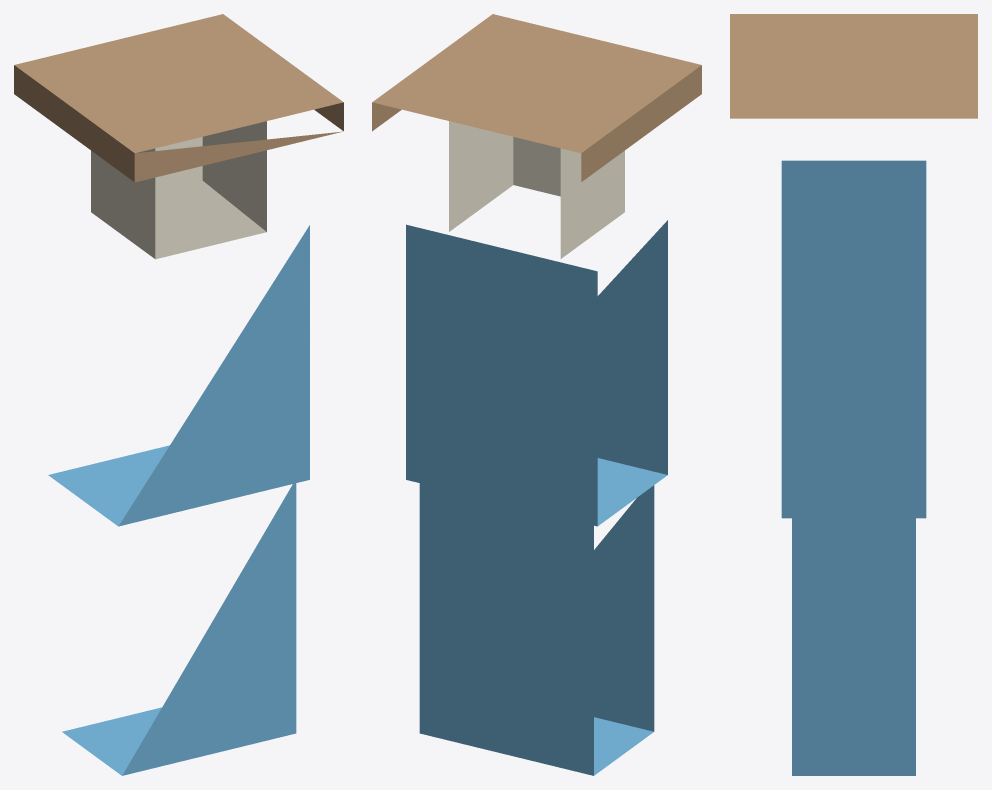
Rendered from ASTX_NPC_FISHERMAN.glb.
3 renders of one model, left to right at view 1: azimuth 30°, elevation 25°; view 2: azimuth 150°, elevation 25°; view 3: azimuth 270°, elevation 25°, orthographic. The views are drawn at different scales.
Visible parts, largest first — view 1: ASTX_NPC_FISHERMAN_hat, ASTX_NPC_FISHERMAN_torso, ASTX_NPC_FISHERMAN_legs, ASTX_NPC_FISHERMAN_head; view 2: ASTX_NPC_FISHERMAN_torso, ASTX_NPC_FISHERMAN_legs, ASTX_NPC_FISHERMAN_hat, ASTX_NPC_FISHERMAN_head; view 3: ASTX_NPC_FISHERMAN_torso, ASTX_NPC_FISHERMAN_legs, ASTX_NPC_FISHERMAN_hat.
Boxes of the visible parts, x1=… form: ASTX_NPC_FISHERMAN_hat: x1=14, y1=14, x2=343, y2=182; ASTX_NPC_FISHERMAN_torso: x1=48, y1=225, x2=309, y2=526; ASTX_NPC_FISHERMAN_legs: x1=62, y1=483, x2=296, y2=775; ASTX_NPC_FISHERMAN_head: x1=91, y1=121, x2=266, y2=259; ASTX_NPC_FISHERMAN_torso: x1=406, y1=220, x2=667, y2=526; ASTX_NPC_FISHERMAN_legs: x1=419, y1=483, x2=654, y2=775; ASTX_NPC_FISHERMAN_hat: x1=372, y1=14, x2=701, y2=181; ASTX_NPC_FISHERMAN_head: x1=449, y1=121, x2=624, y2=258; ASTX_NPC_FISHERMAN_torso: x1=781, y1=160, x2=926, y2=518; ASTX_NPC_FISHERMAN_legs: x1=792, y1=518, x2=915, y2=775; ASTX_NPC_FISHERMAN_hat: x1=730, y1=14, x2=977, y2=118.
Size of the model in its own units: 0.6 by 1.78 by 0.6.
